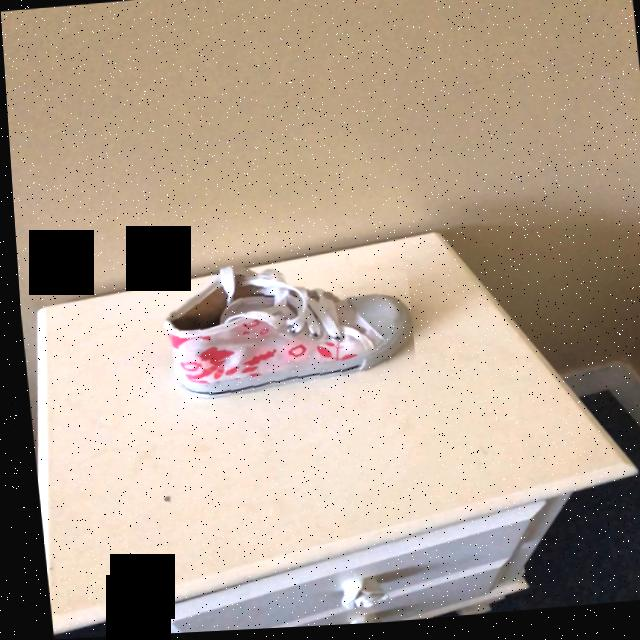shoe: (161, 278, 408, 399)
